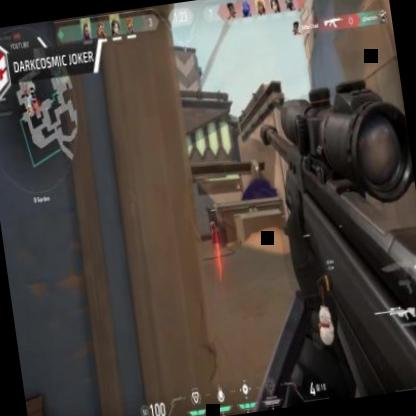enemy: (208, 218, 219, 246)
enemy_head: (210, 219, 214, 224)
